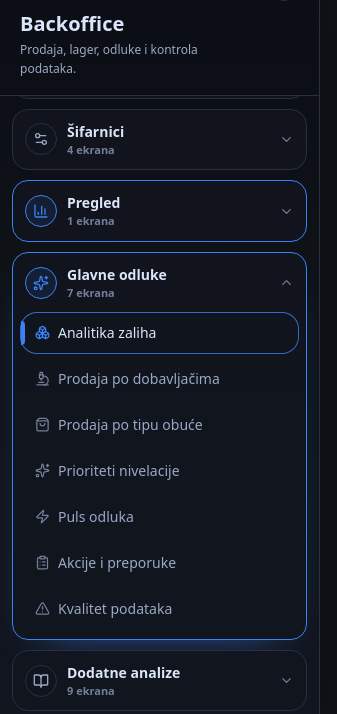
Test: Sidebar › renders the analytics IA labels and keeps the active route visible
The width and height of the screenshot is (337, 714).
(page scrolled)
Expected: the button "Glavne odluke 7 ekrana" is shown, [13,253,306,313]
Expected: the text "Backoffice" is shown, [20,10,124,36]
Click the button "Dodatne analize 9 ekrana": click(160, 681) [13,651,306,710]
(page scrolled)
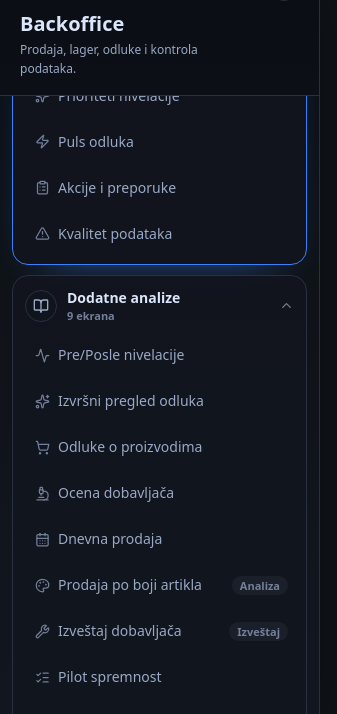
Expected: the button "Dodatne analize 9 ekrana" is expanded, [13,276,306,335]
